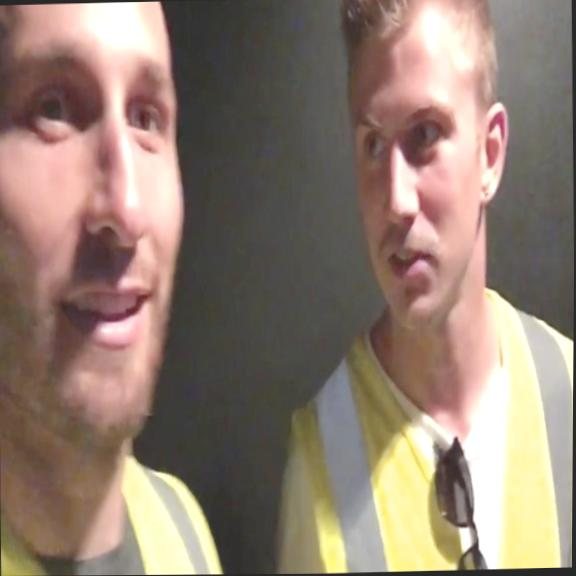safety_vest: (286, 279, 574, 574), (0, 448, 232, 576)
